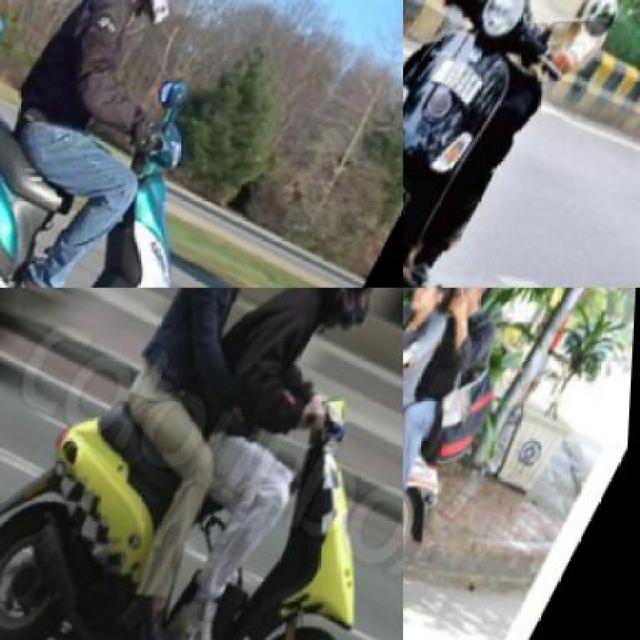With Helmet: (294, 288, 401, 346), (102, 0, 225, 37)
Without Helmet: (403, 288, 477, 342)
